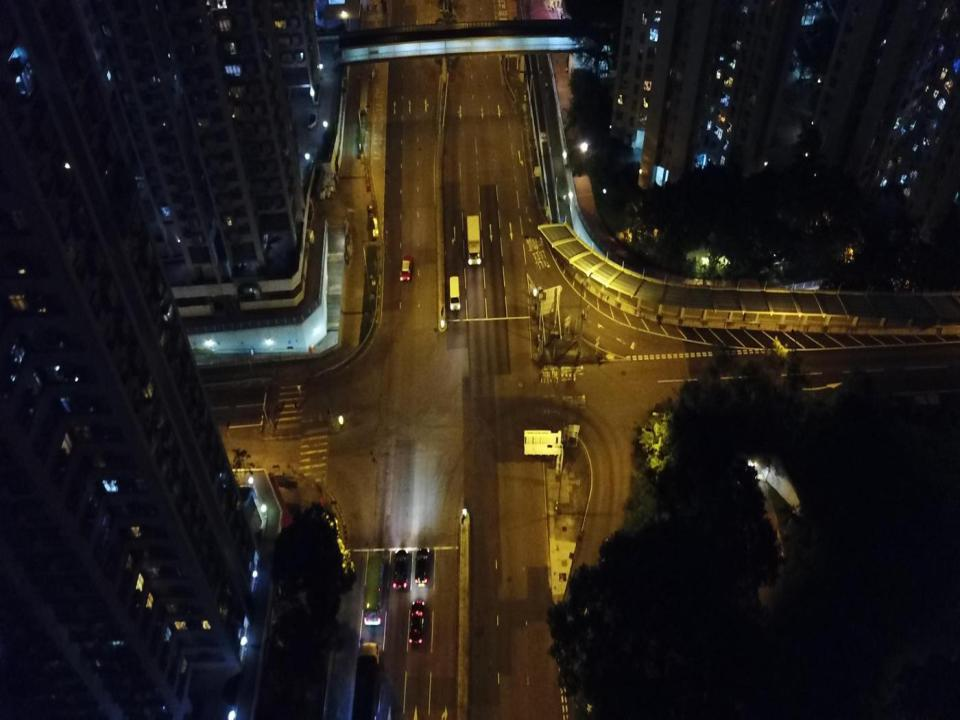bus: (362, 554, 385, 627), (448, 275, 461, 311)
car: (408, 598, 426, 646), (414, 546, 433, 586), (392, 548, 409, 591), (399, 253, 414, 282)
truck: (350, 642, 382, 719), (466, 215, 482, 266)
